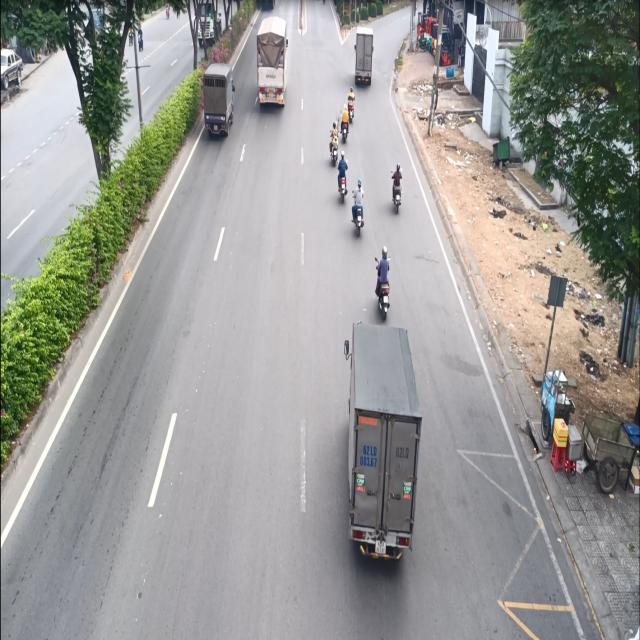motor: (369, 241, 394, 320), (348, 176, 368, 242), (387, 160, 406, 222), (335, 150, 349, 205), (337, 103, 350, 148), (328, 119, 339, 165)
truck: (336, 307, 426, 576), (253, 8, 286, 116), (201, 50, 237, 134), (351, 24, 376, 94)
